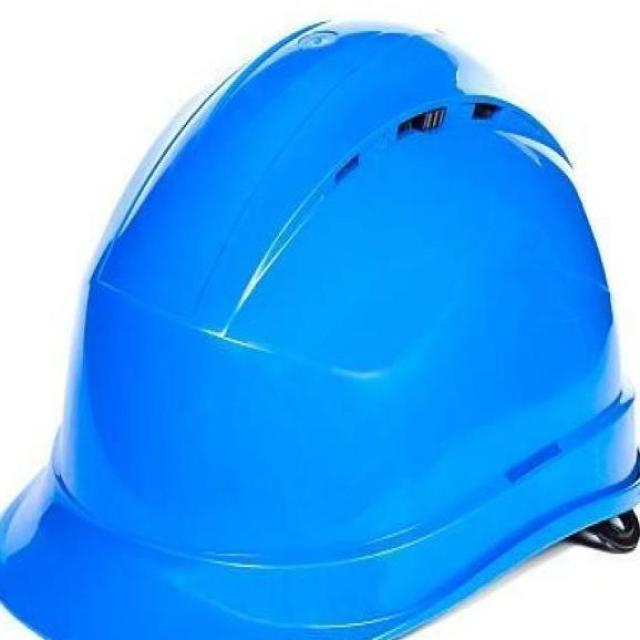blue helmet: (3, 13, 640, 640)
